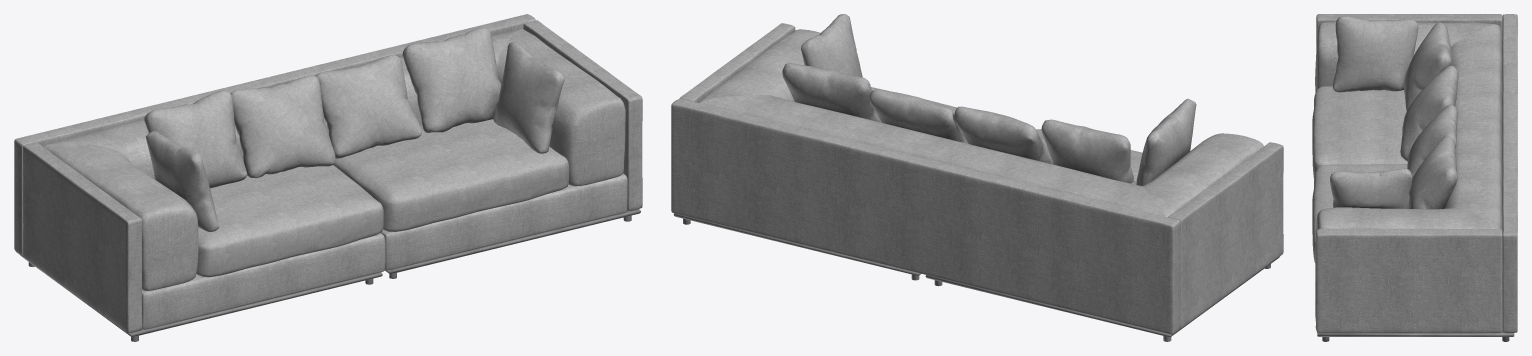
Rendered from gray.glb.
3 renders of one model, left to right at view 1: azimuth 30°, elevation 25°; view 2: azimuth 150°, elevation 25°; view 3: azimuth 270°, elevation 25°, orthographic. The views are drawn at different scales.
Parts seen in each view (by area): view 1: defaultMaterial, defaultMaterial.005, defaultMaterial.003, defaultMaterial.002, defaultMaterial.004, defaultMaterial.001; view 2: defaultMaterial.003, defaultMaterial, defaultMaterial.002, defaultMaterial.001, defaultMaterial.005; view 3: defaultMaterial.003, defaultMaterial, defaultMaterial.002, defaultMaterial.005, defaultMaterial.001.
Part boxes in pixels (left/top/right/bottom): defaultMaterial: left=144, top=28, right=564, bottom=231; defaultMaterial.005: left=196, top=119, right=569, bottom=277; defaultMaterial.003: left=14, top=14, right=642, bottom=333; defaultMaterial.002: left=43, top=29, right=625, bottom=290; defaultMaterial.004: left=142, top=173, right=627, bottom=329; defaultMaterial.001: left=20, top=209, right=640, bottom=341; defaultMaterial.003: left=671, top=23, right=1283, bottom=334; defaultMaterial: left=782, top=14, right=1196, bottom=185; defaultMaterial.002: left=699, top=29, right=1263, bottom=217; defaultMaterial.001: left=674, top=213, right=1279, bottom=341; defaultMaterial.005: left=871, top=87, right=1142, bottom=183; defaultMaterial.003: left=1315, top=14, right=1517, bottom=333; defaultMaterial: left=1330, top=16, right=1458, bottom=209; defaultMaterial.002: left=1315, top=22, right=1502, bottom=280; defaultMaterial.005: left=1312, top=86, right=1407, bottom=262; defaultMaterial.001: left=1317, top=331, right=1514, bottom=341.
Size of the model in its own units: 2 by 0.6017 by 0.7837.
Materials: 6 (6 with a texture image).
